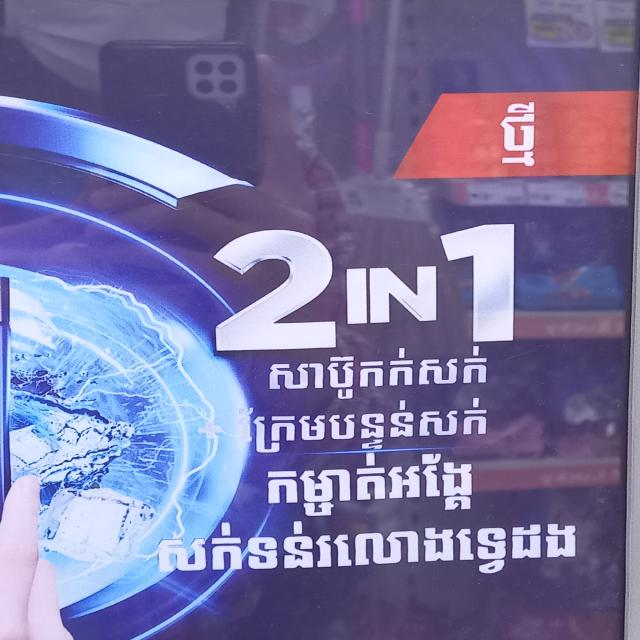503: (436, 215, 536, 342)
631: (201, 217, 345, 357)
Yolov11kh: (143, 515, 582, 580), (232, 394, 489, 453), (262, 342, 499, 401), (261, 451, 478, 515), (491, 97, 544, 169)
